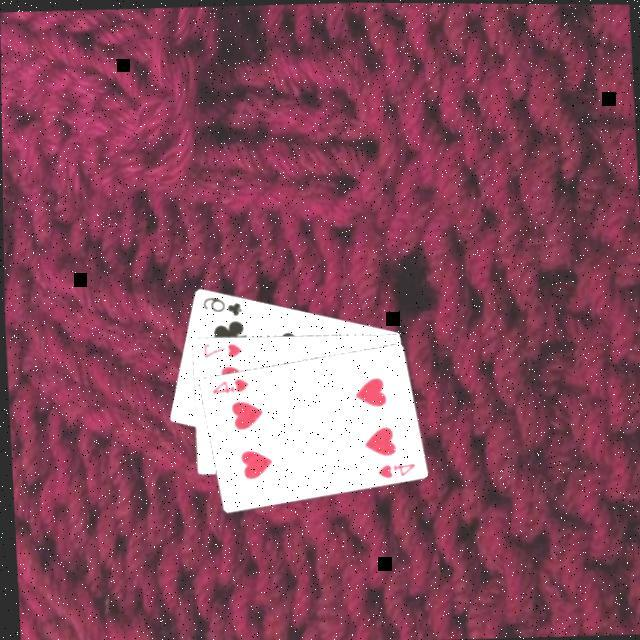4H: (205, 372, 250, 395), (370, 456, 415, 478)
6C: (197, 290, 242, 318)
7H: (198, 336, 242, 358)
